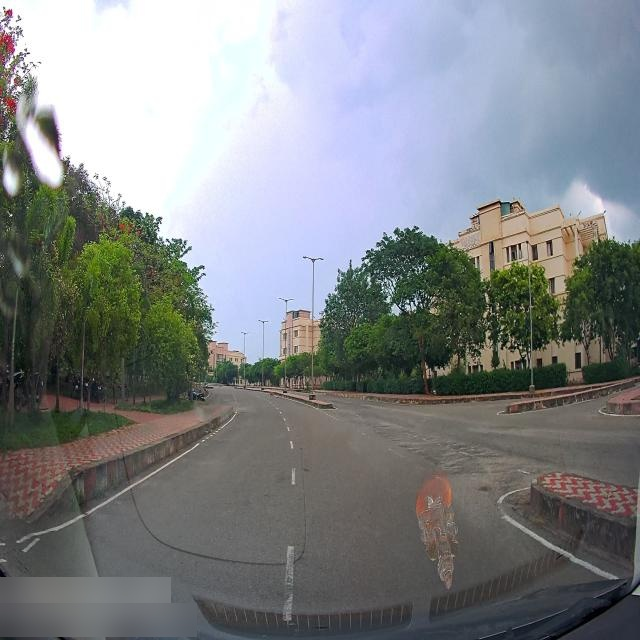pothole: (399, 436, 422, 458), (474, 480, 492, 498), (442, 461, 467, 472), (479, 453, 501, 462), (451, 440, 470, 450), (390, 438, 406, 445), (378, 422, 391, 430)
